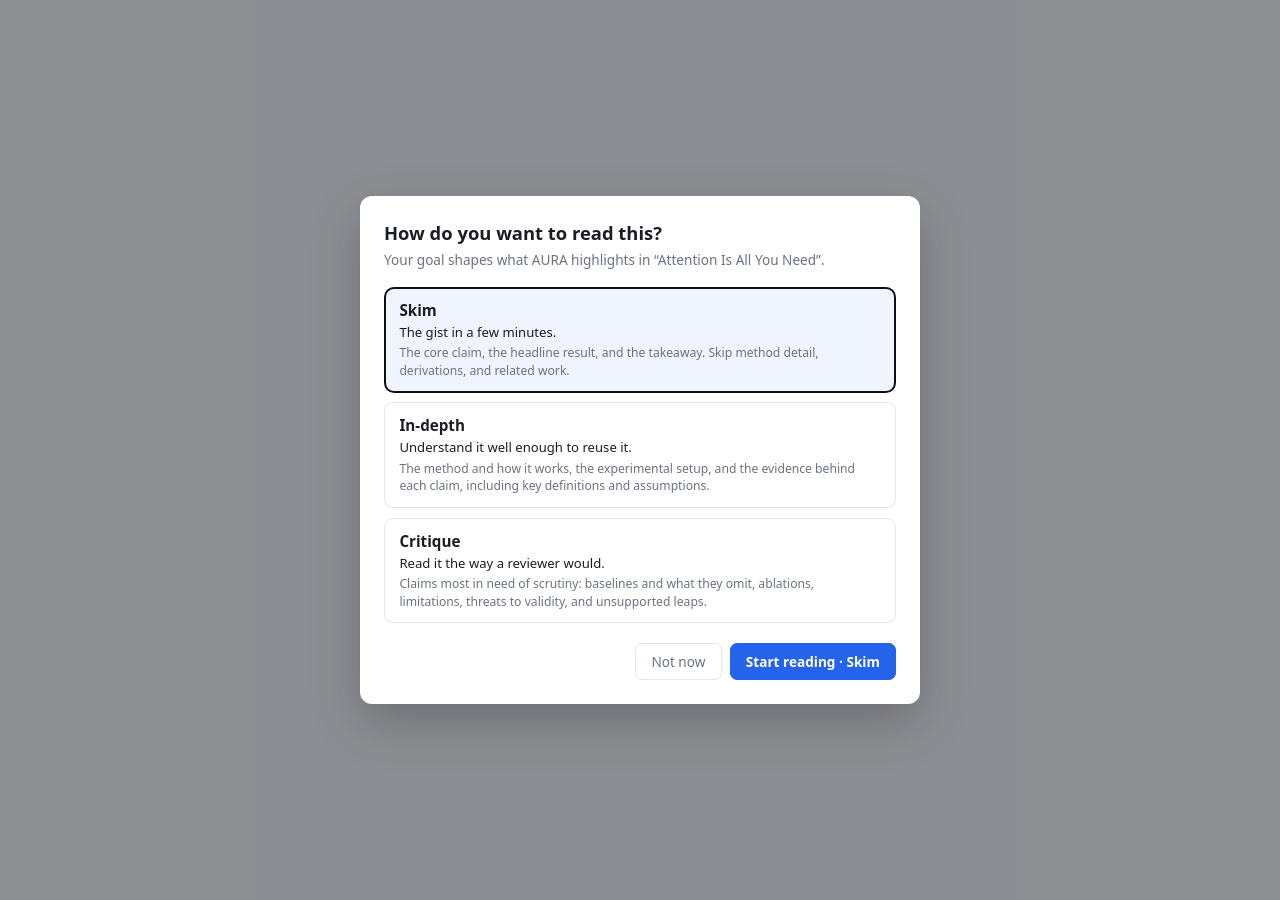
Test: presentation › names the pending choice on the confirm button
The image size is (1280, 900).
Expected: the button "Start reading · Skim" is shown, [730,643,896,680]
What coordinates should you click on to do the following:
click the radio button labelled "Critique"
I would click on:
 (430, 540)
Its box is [384,518,896,623].
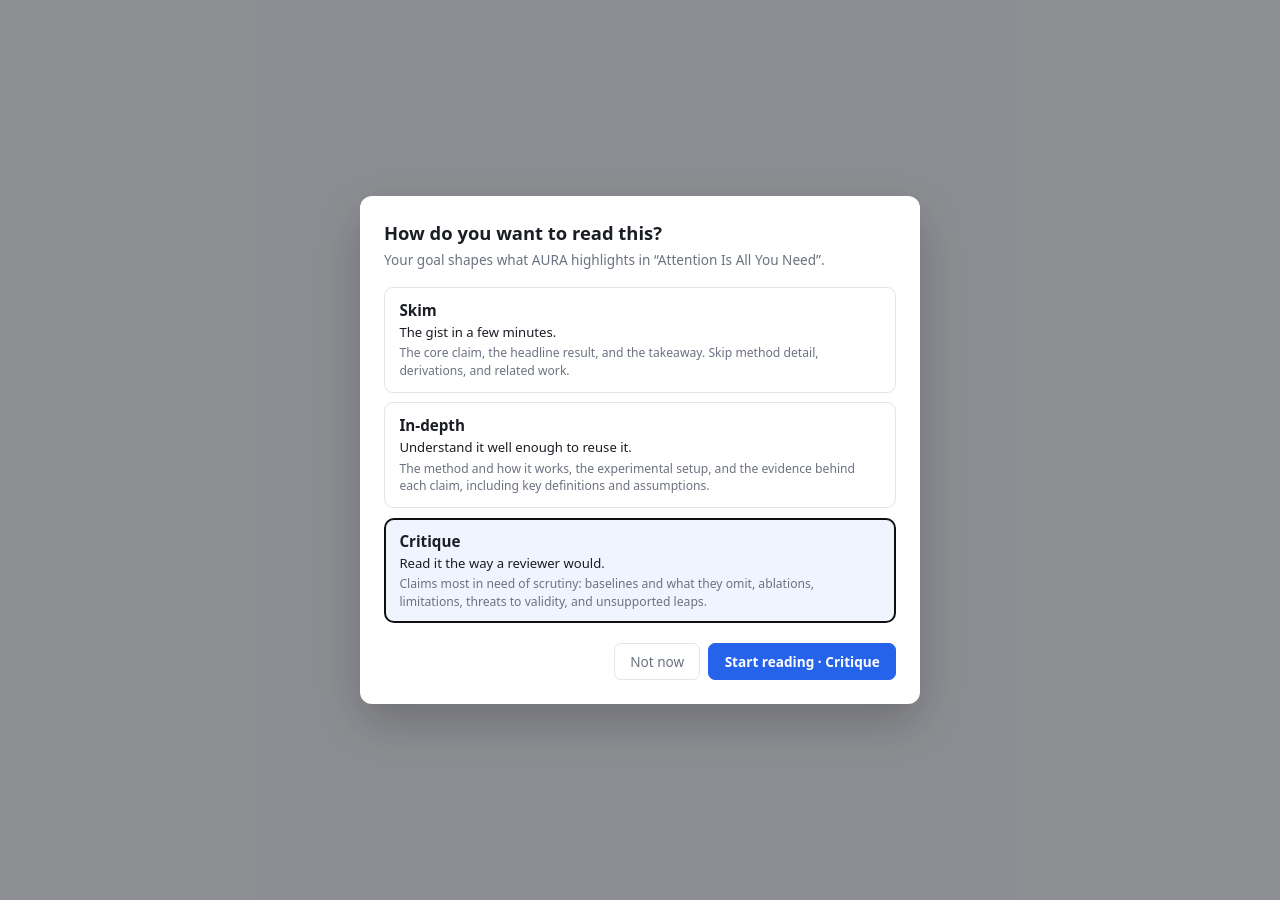
Now the button "Start reading · Critique" is shown, box [708,643,896,680]
